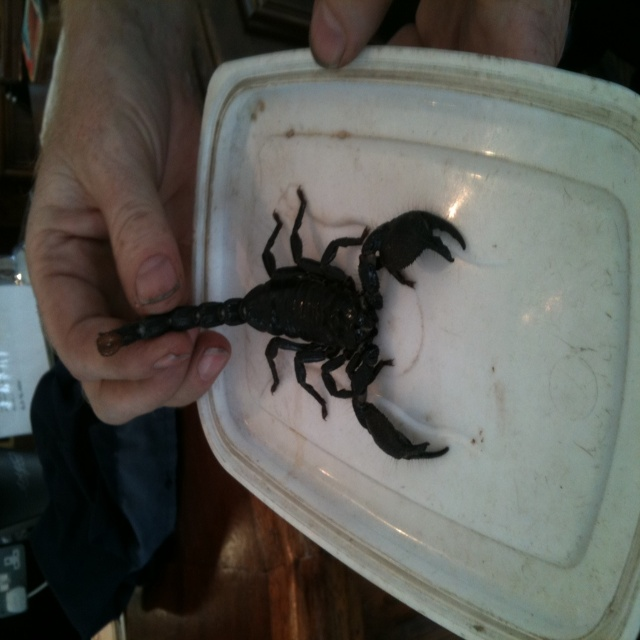Scorpion: (94, 182, 468, 462)
